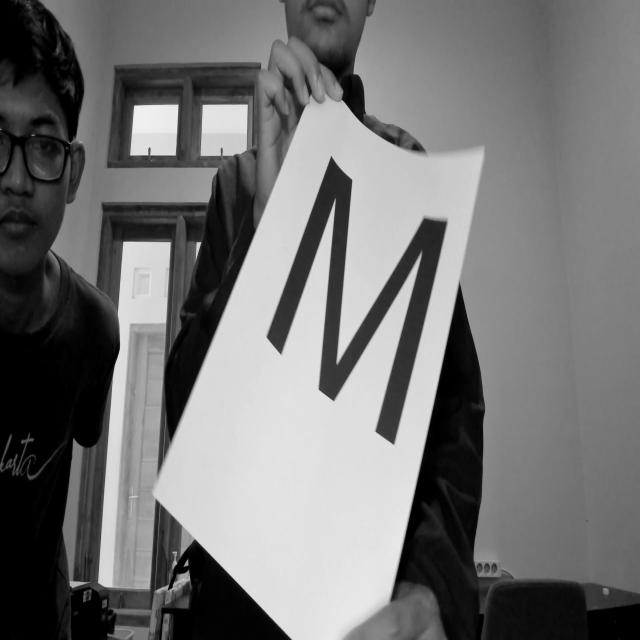m: (239, 98, 454, 465)
